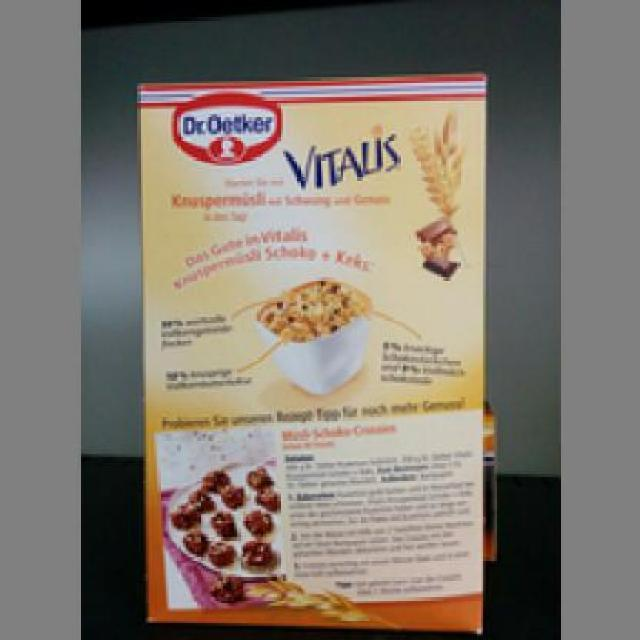Cereal: (128, 69, 488, 626)
